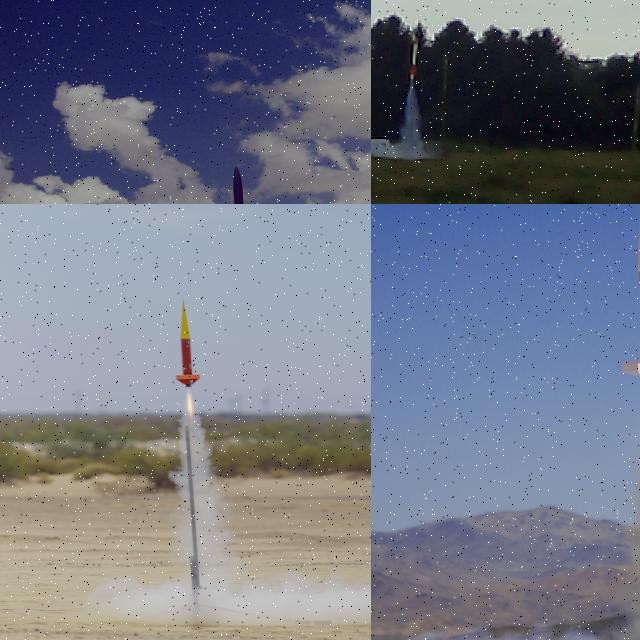Rocket: (621, 204, 640, 389), (175, 299, 201, 388), (232, 165, 257, 204), (409, 37, 419, 80)
